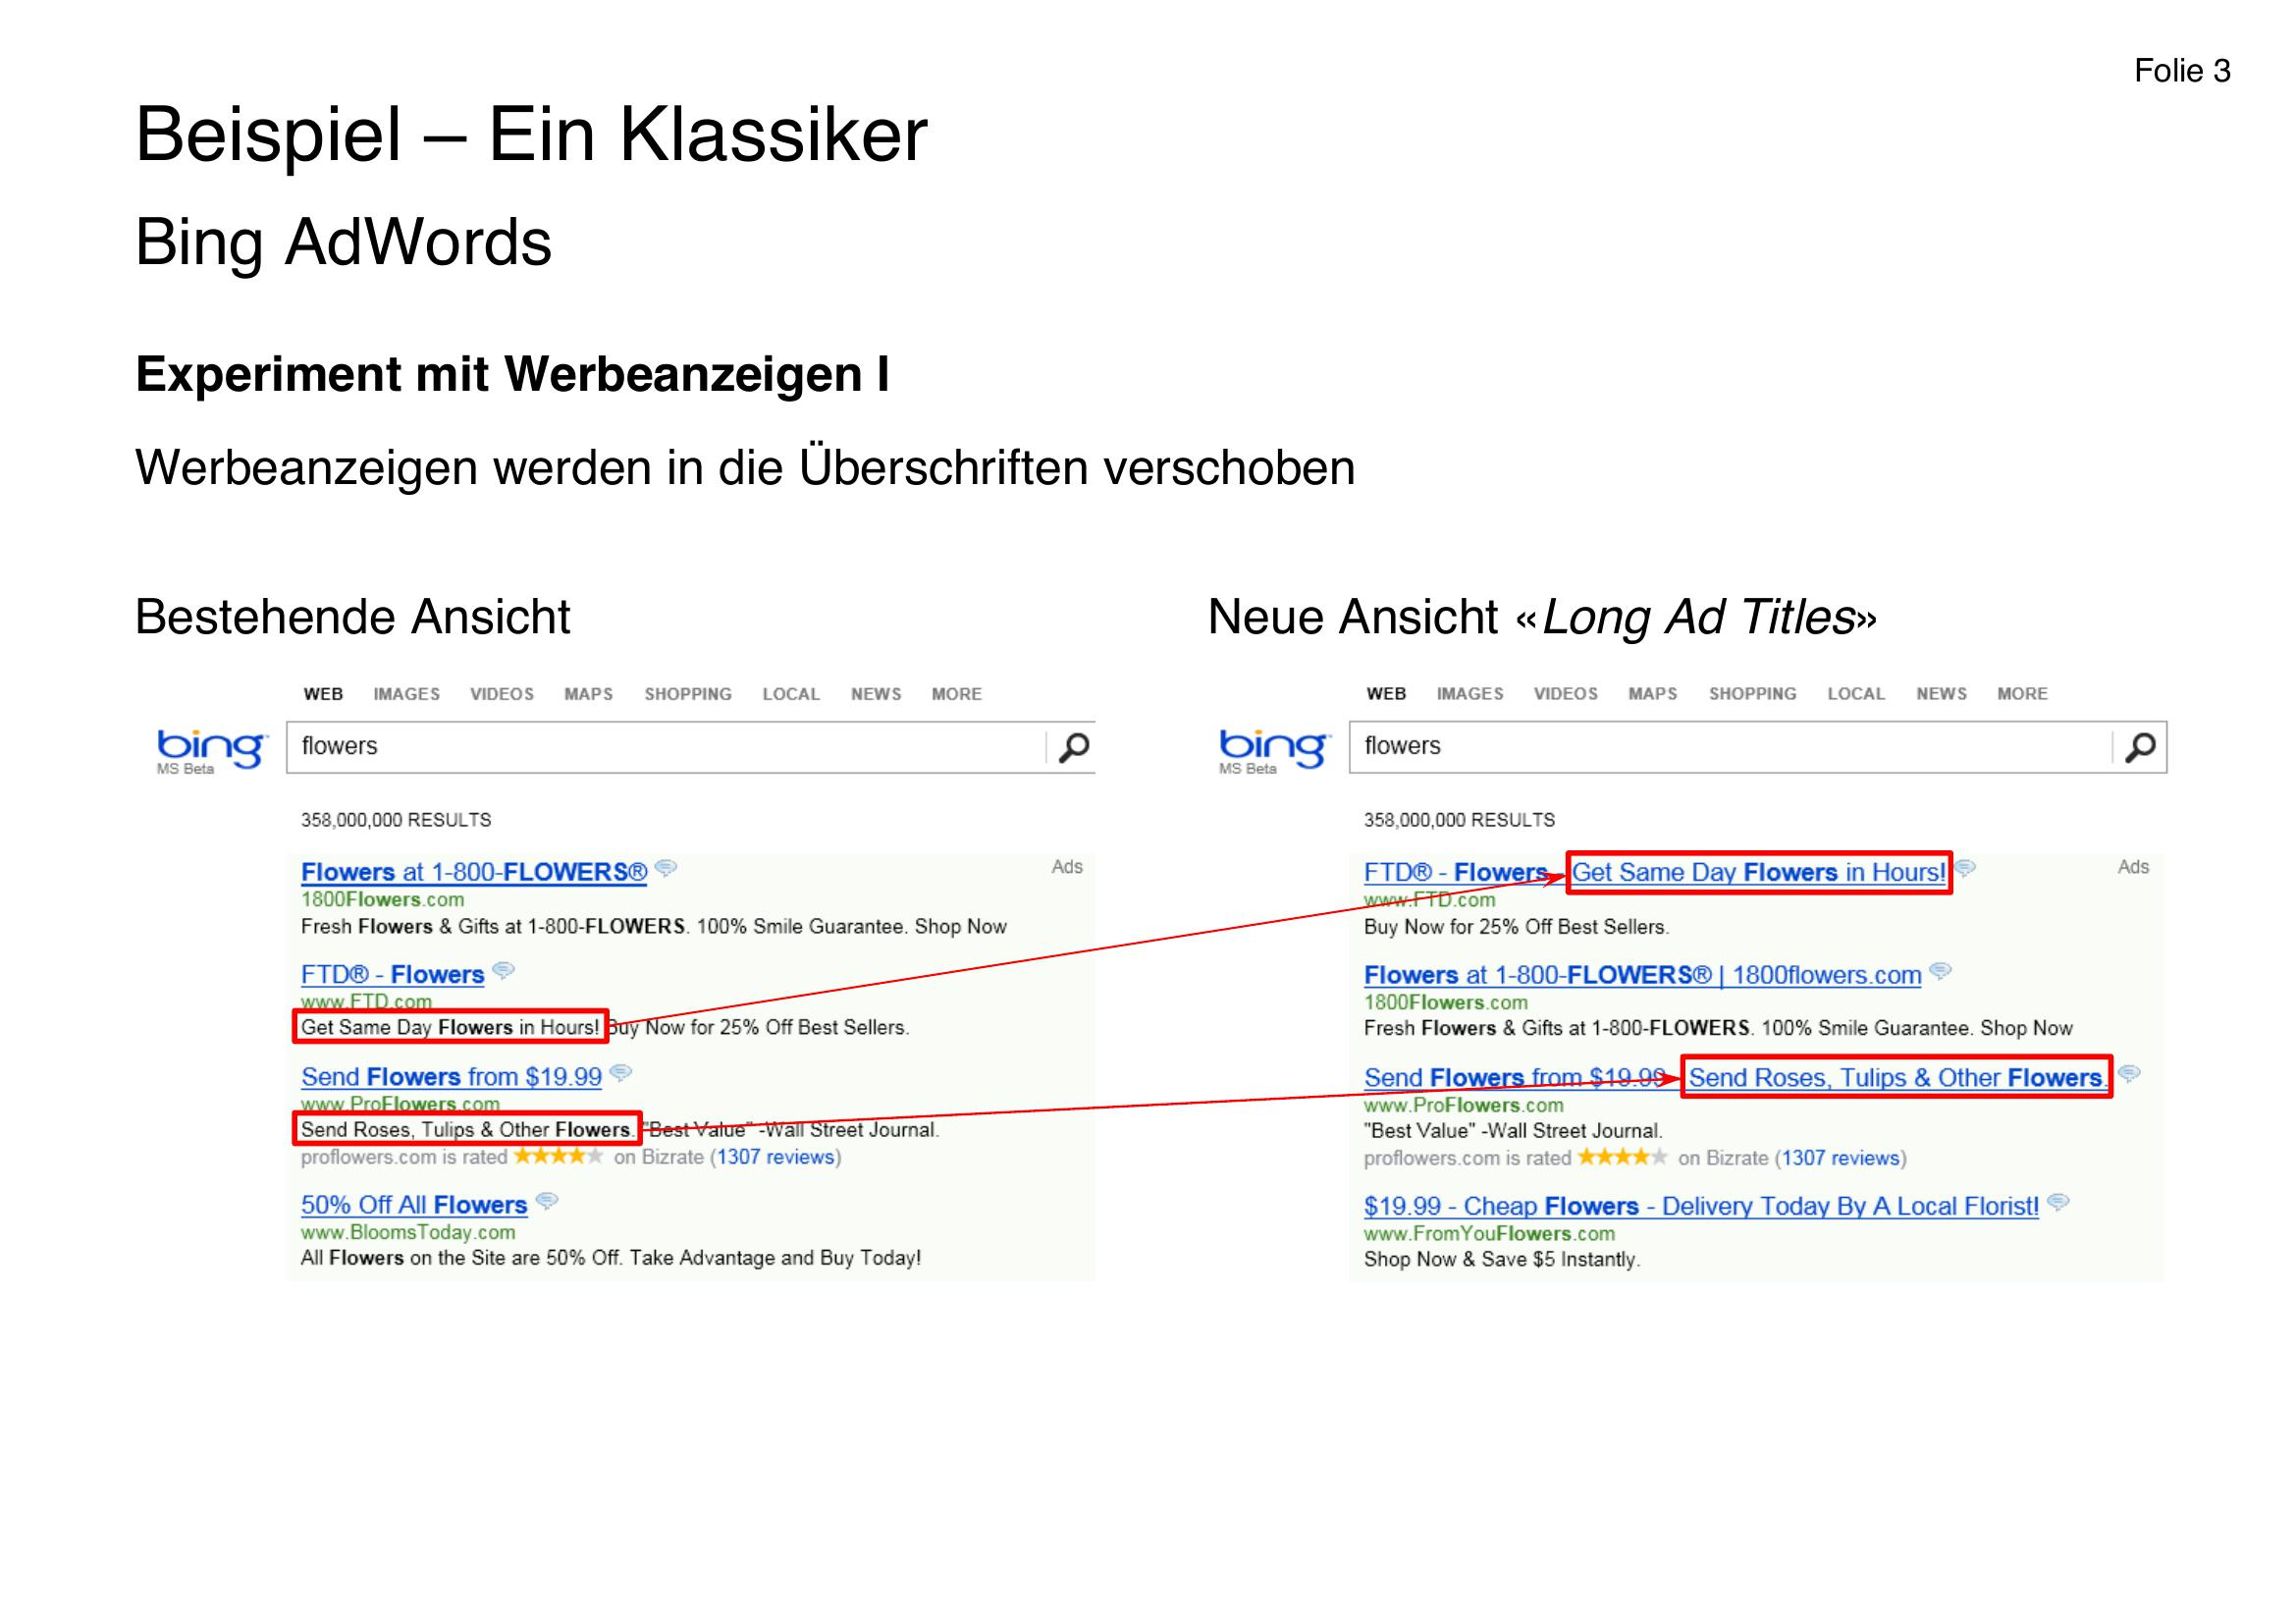Title: (112, 95, 957, 174)
